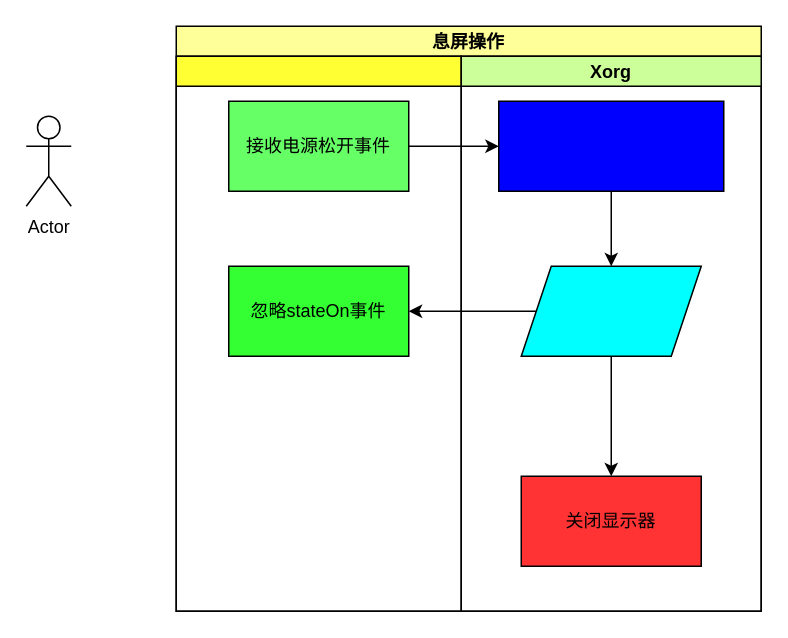
The diagram is 788 pixels wide and 638 high, and some of its shapes have lost their labels. The shapes that lost their labels are listed below. From the top down, each one's box as (x1, y1, x2, y2) in pixels, then its label:
(497, 100, 724, 191): ProcDPMSForceLevel
(520, 265, 701, 356): 发送stateOn事件
(175, 55, 461, 611): dde-dameon
